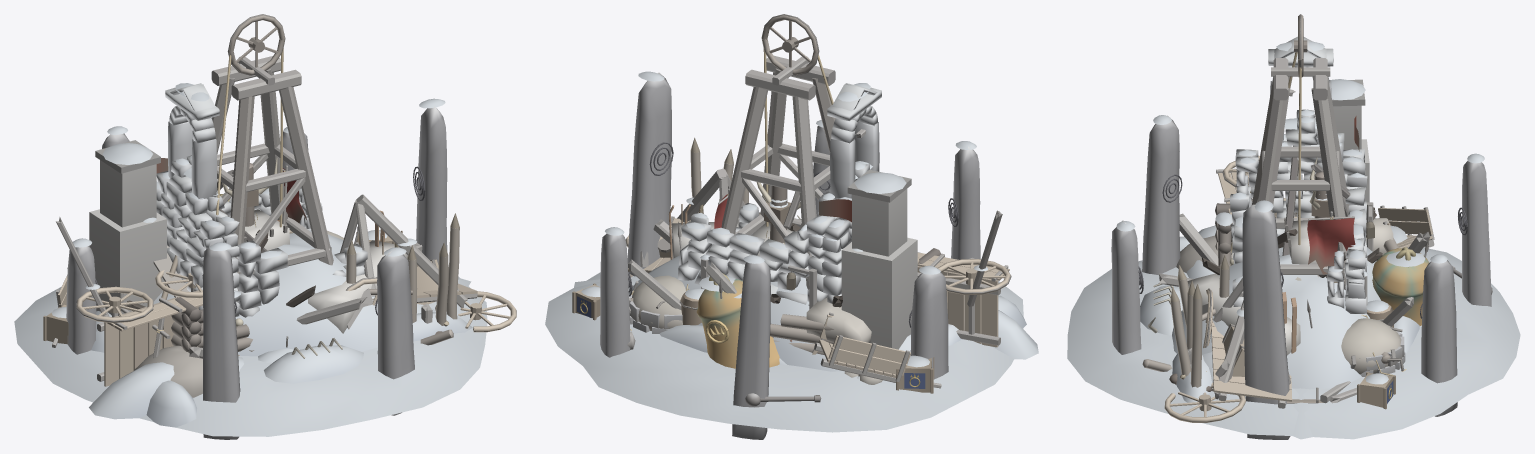
File: stories_cold.glb
3 views of the same model, side by side, from view 1: azimuth 30°, elevation 25°; view 2: azimuth 150°, elevation 25°; view 3: azimuth 270°, elevation 25° (orthographic).
Visible parts, largest first — view 1: story_old_ones_ring, story_buried_cabin, story_wrecked_convoy, story_hermitage, story_mine_head, story_ruined_homestead, story_quarry, story_frozen_memorial; view 2: story_old_ones_ring, story_buried_cabin, story_hermitage, story_wrecked_convoy, story_mine_head, story_ruined_homestead, story_quarry, story_rockfall_wagon, story_lost_camp; view 3: story_old_ones_ring, story_wrecked_convoy, story_buried_cabin, story_hermitage, story_mine_head, story_ruined_homestead, story_quarry, story_rockfall_wagon, story_frozen_memorial, story_lost_camp.
Part boxes in pixels (box(x1,y1,x2,y2)): story_old_ones_ring: box(14, 98, 487, 439); story_buried_cabin: box(89, 140, 435, 358); story_wrecked_convoy: box(43, 194, 516, 419); story_hermitage: box(118, 83, 367, 427); story_mine_head: box(134, 14, 442, 397); story_ruined_homestead: box(52, 213, 472, 355); story_quarry: box(160, 209, 407, 351); story_frozen_memorial: box(282, 165, 358, 347); story_old_ones_ring: box(545, 71, 1023, 439); story_buried_cabin: box(627, 169, 974, 379); story_hermitage: box(660, 83, 1026, 364); story_wrecked_convoy: box(572, 168, 1038, 406); story_mine_head: box(628, 14, 964, 330); story_ruined_homestead: box(627, 137, 941, 388); story_quarry: box(656, 219, 882, 384); story_rockfall_wagon: box(632, 275, 685, 330); story_lost_camp: box(629, 199, 851, 330); story_old_ones_ring: box(1067, 115, 1520, 439); story_wrecked_convoy: box(1140, 76, 1492, 439); story_buried_cabin: box(1158, 79, 1430, 389); story_hermitage: box(1180, 36, 1419, 353); story_mine_head: box(1169, 14, 1374, 403); story_ruined_homestead: box(1142, 203, 1434, 407); story_quarry: box(1182, 191, 1402, 355); story_rockfall_wagon: box(1295, 276, 1402, 374); story_frozen_memorial: box(1307, 211, 1429, 328); story_lost_camp: box(1282, 116, 1406, 375).
Size of the model in its own units: 7.36 by 6.34 by 6.88.
